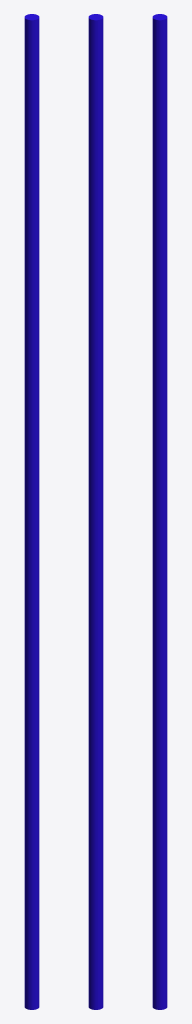
3 renders of one model, left to right at view 1: azimuth 90°, elevation 25°; view 2: azimuth 150°, elevation 25°; view 3: azimuth 270°, elevation 25°, orthographic.
Parts seen in each view (by area): view 1: Циліндр; view 2: Циліндр; view 3: Циліндр.
Part boxes in pixels (x1,y1,x2,y2): Циліндр: [24, 14, 39, 1009]; Циліндр: [88, 14, 103, 1009]; Циліндр: [152, 14, 167, 1009].
Size of the model in its own units: 0.0964 by 7.1 by 0.0964.
